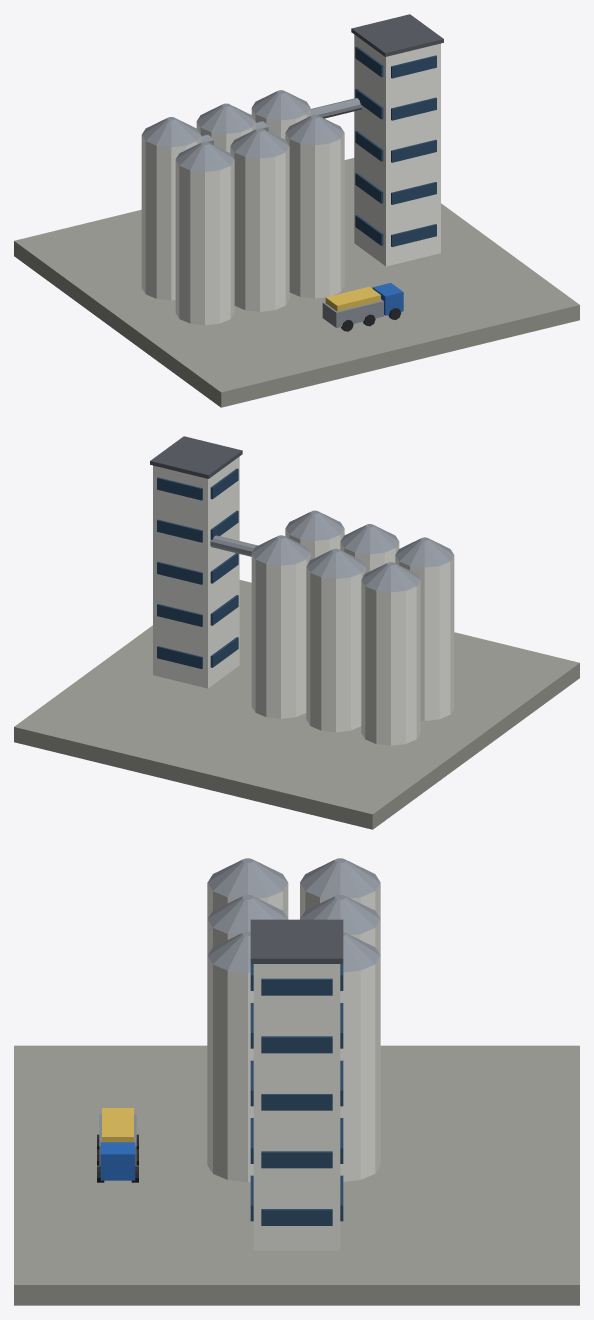
File: agro_income_3.glb
The picture shows the model from 3 angles, top to bottom: view 1: azimuth 30°, elevation 25°; view 2: azimuth 150°, elevation 25°; view 3: azimuth 270°, elevation 25°; orthographic projection. The views are drawn at different scales.
Parts seen in each view (by area): view 1: agro_income_3; view 2: agro_income_3; view 3: agro_income_3.
Boxes of the visible parts, x1,y1,x2,y2 form: agro_income_3: [14, 14, 579, 407]; agro_income_3: [14, 436, 579, 829]; agro_income_3: [14, 858, 579, 1305].
Size of the model in its own units: 1.96 by 1.2 by 1.96.
